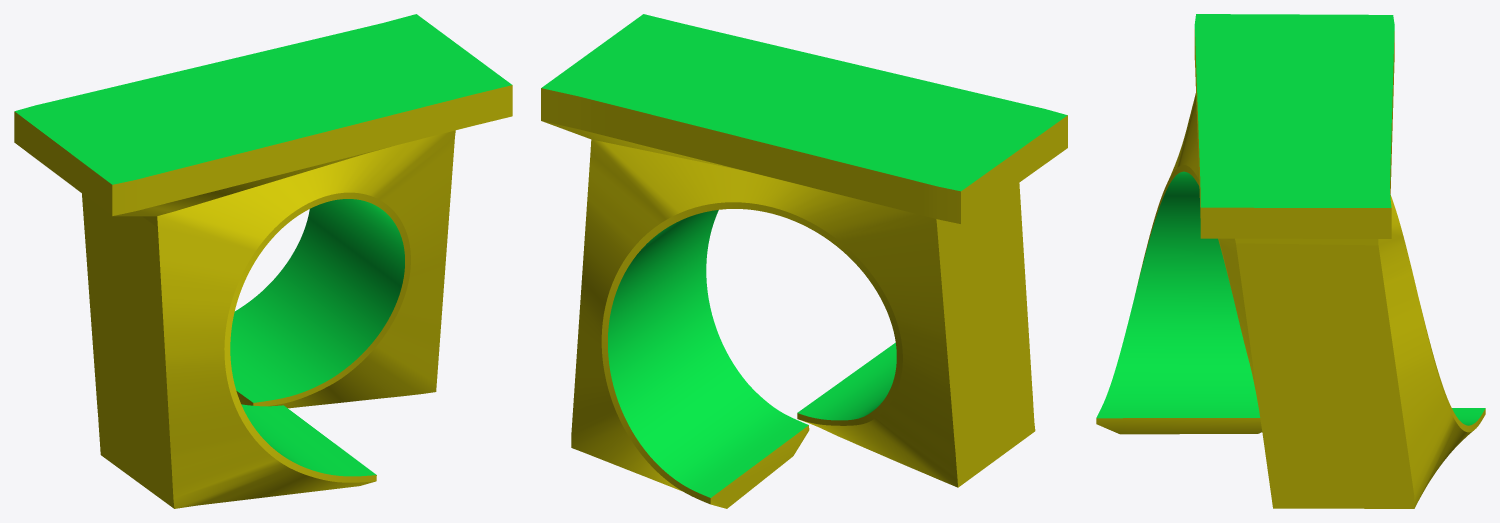
Rendered from BlockLoop_NoWall.fbx.
3 views of the same model, side by side, from view 1: azimuth 30°, elevation 25°; view 2: azimuth 150°, elevation 25°; view 3: azimuth 270°, elevation 25° (orthographic). The views are drawn at different scales.
Parts seen in each view (by area): view 1: loop_2_without_borders:pHelix1; view 2: loop_2_without_borders:pHelix1; view 3: loop_2_without_borders:pHelix1.
Boxes of the visible parts, box(x1,y1,x2,y2) form: loop_2_without_borders:pHelix1: box(14, 14, 512, 508); loop_2_without_borders:pHelix1: box(541, 14, 1067, 508); loop_2_without_borders:pHelix1: box(1096, 14, 1485, 508).
Size of the model in its own units: 3.6 by 2.77 by 3.05.
